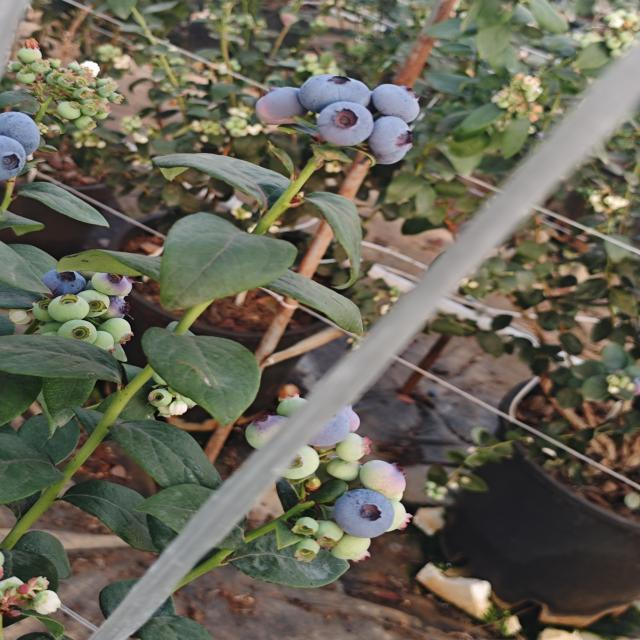ripe: (298, 69, 379, 115), (331, 487, 397, 540), (362, 110, 422, 161), (313, 100, 375, 149), (306, 403, 359, 450), (0, 108, 46, 160), (258, 85, 316, 125), (368, 84, 420, 124), (45, 263, 95, 296), (0, 129, 26, 180)
